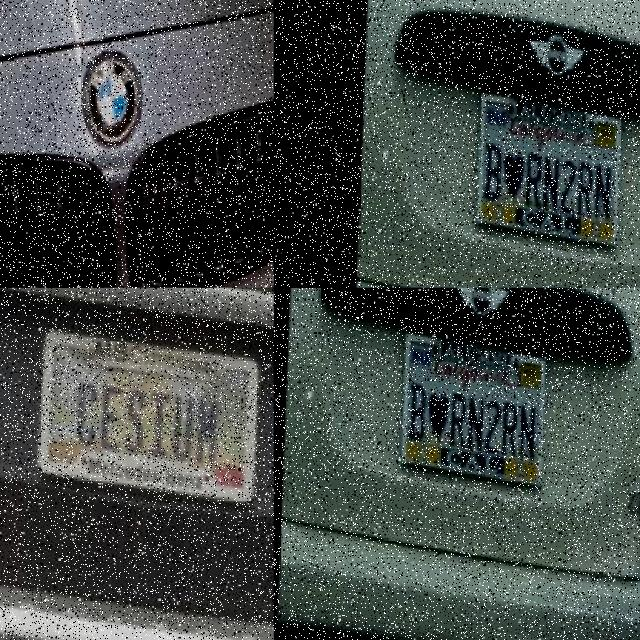licenseplate: (33, 330, 258, 499), (394, 326, 551, 486), (472, 97, 626, 240)
